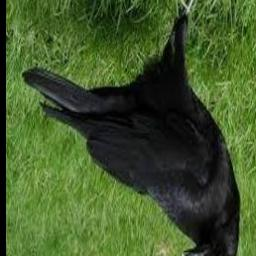Crow: (22, 11, 241, 256)
